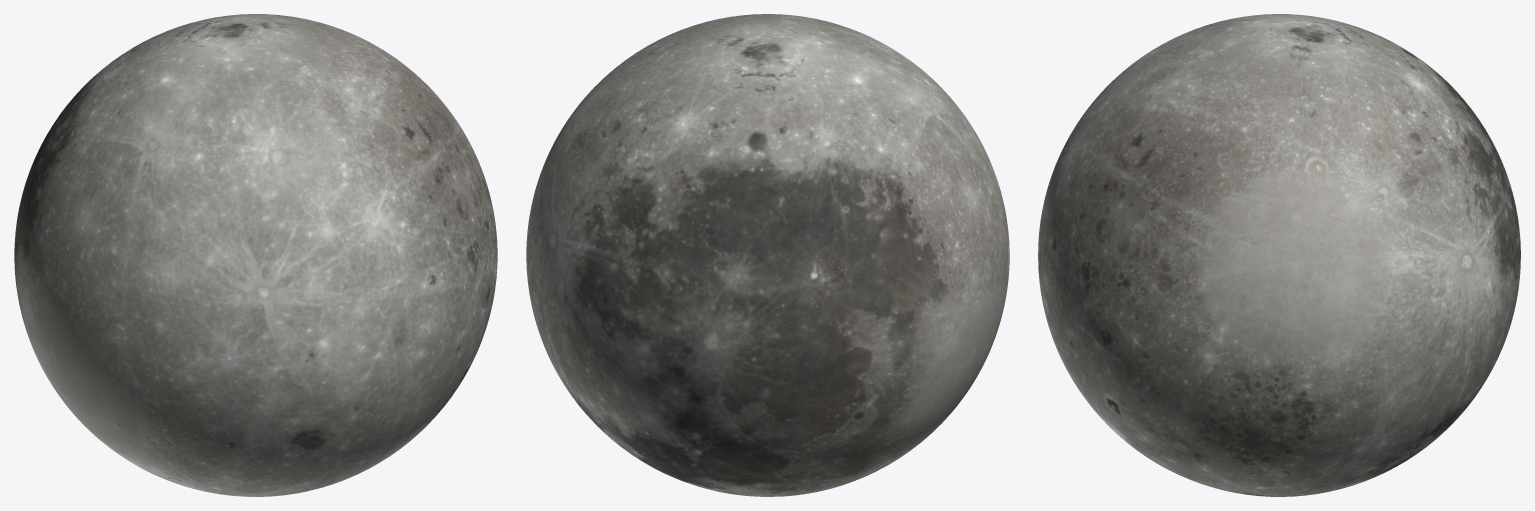
The model's file is moon.glb.
3 renders of one model, left to right at view 1: azimuth 30°, elevation 25°; view 2: azimuth 150°, elevation 25°; view 3: azimuth 270°, elevation 25°, orthographic.
Visible parts, largest first — view 1: Sphere; view 2: Sphere; view 3: Sphere.
Boxes of the visible parts, left/top/right/bottom form: Sphere: left=14, top=14, right=497, bottom=496; Sphere: left=526, top=14, right=1009, bottom=496; Sphere: left=1038, top=14, right=1520, bottom=496.
Size of the model in its own units: 2 by 1.99 by 1.99.
1 material, 1 textured.
